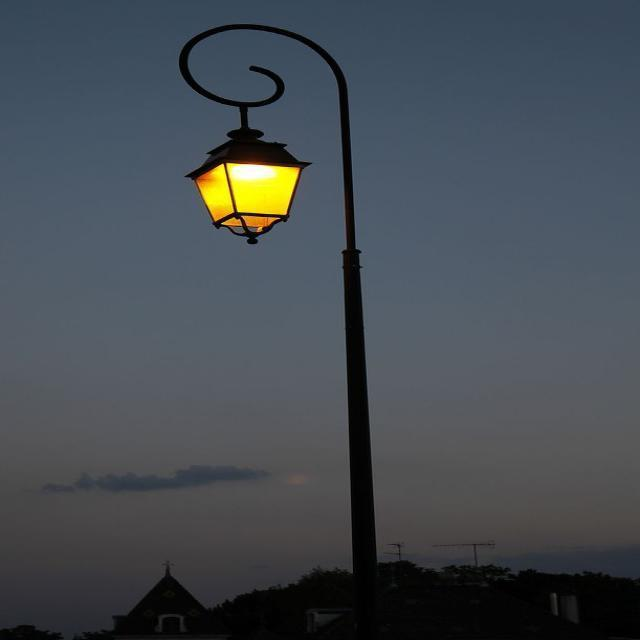on: (167, 106, 320, 260)
